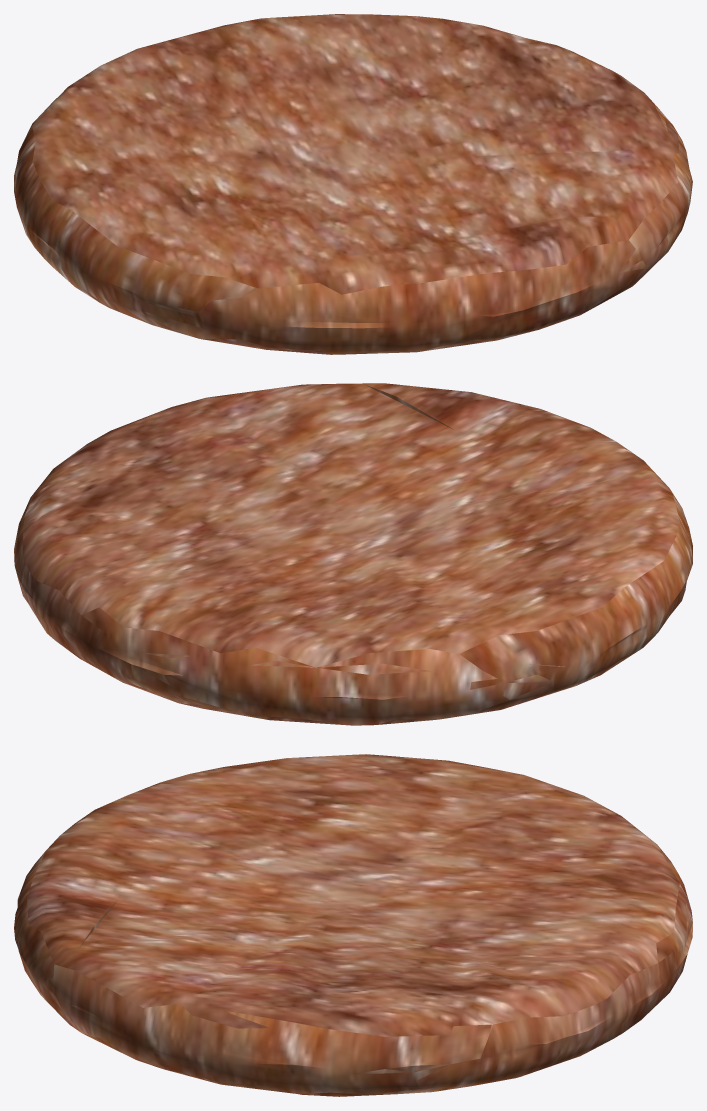
File: CARNE_non_usare.fbx
3 renders of one model, top to bottom at view 1: azimuth 30°, elevation 25°; view 2: azimuth 150°, elevation 25°; view 3: azimuth 270°, elevation 25°, orthographic.
Parts seen in each view (by area): view 1: Circle; view 2: Circle; view 3: Circle.
Boxes of the visible parts, x1=… form: Circle: x1=14, y1=14, x2=692, y2=354; Circle: x1=14, y1=383, x2=692, y2=725; Circle: x1=14, y1=754, x2=692, y2=1096.
Bounding box in the file's own units: 202 × 28.49 × 202.
